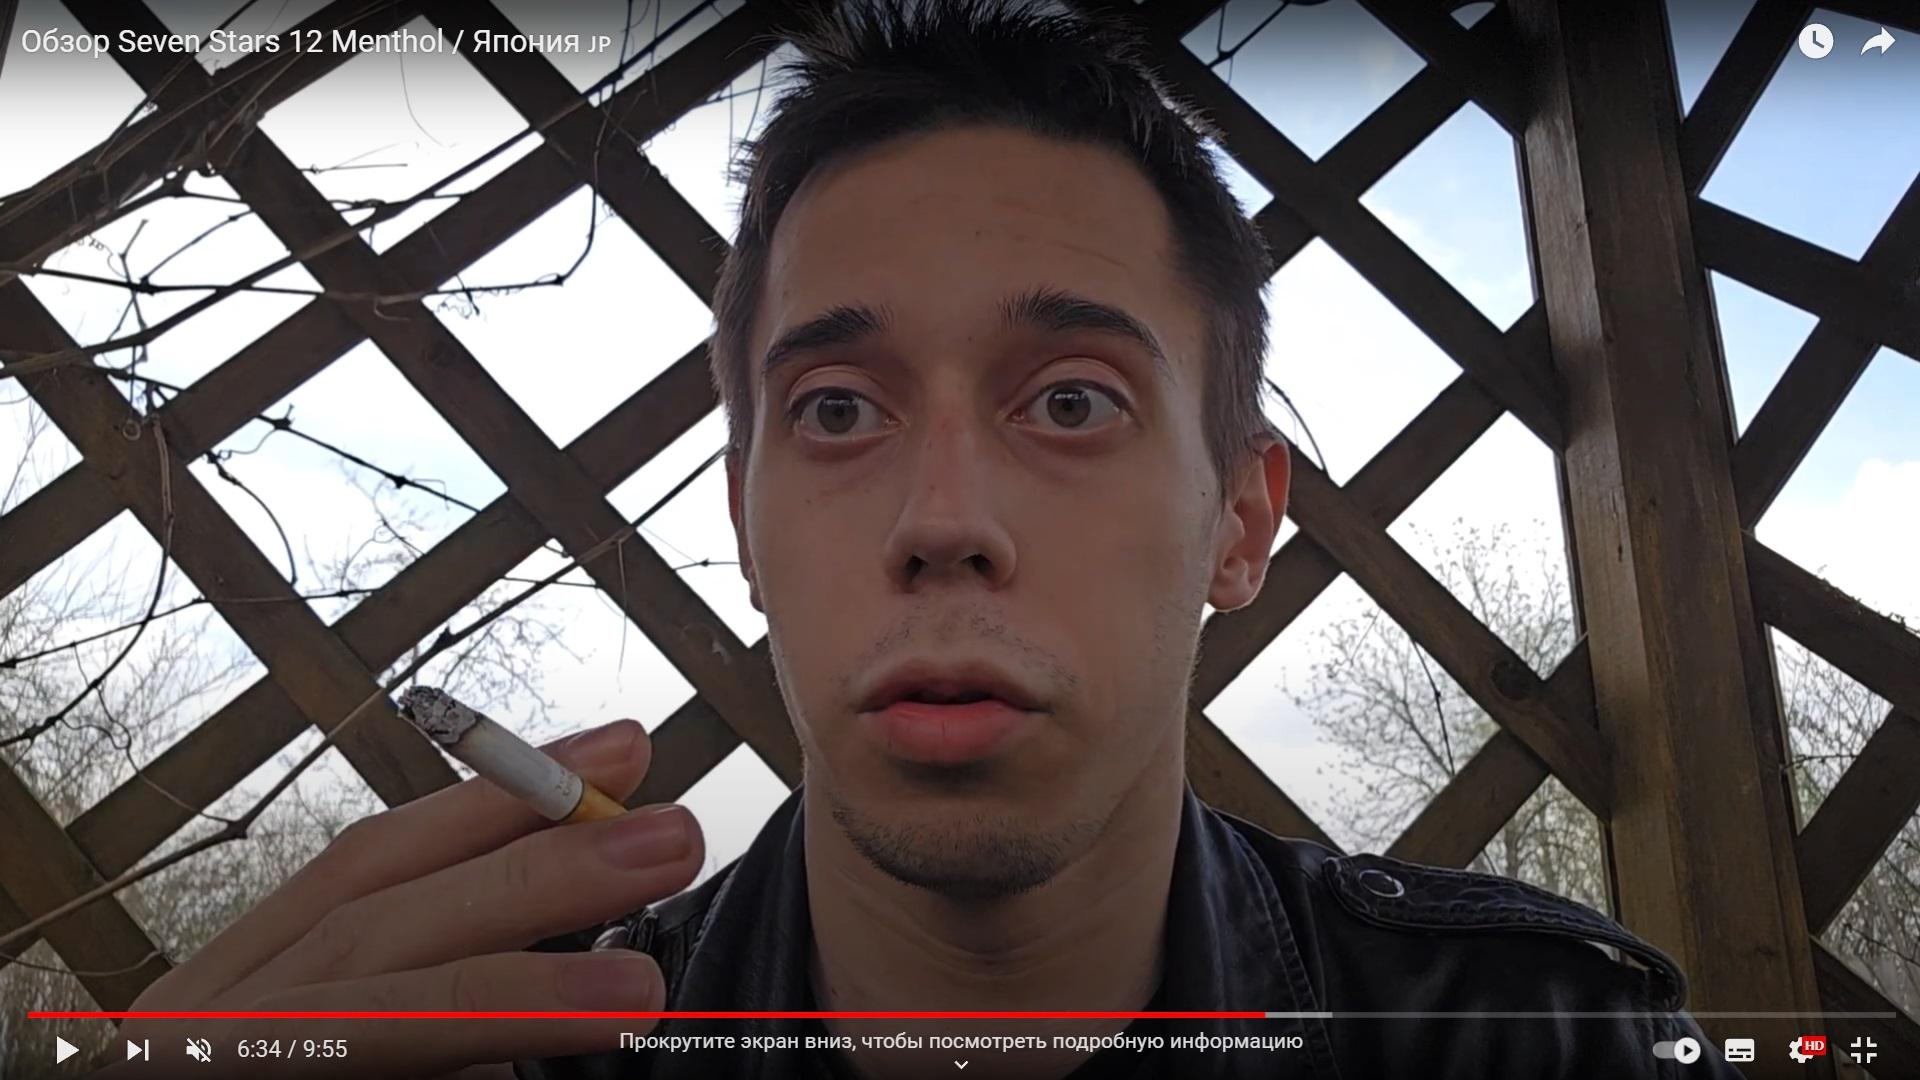cigarette: (401, 686, 622, 822)
